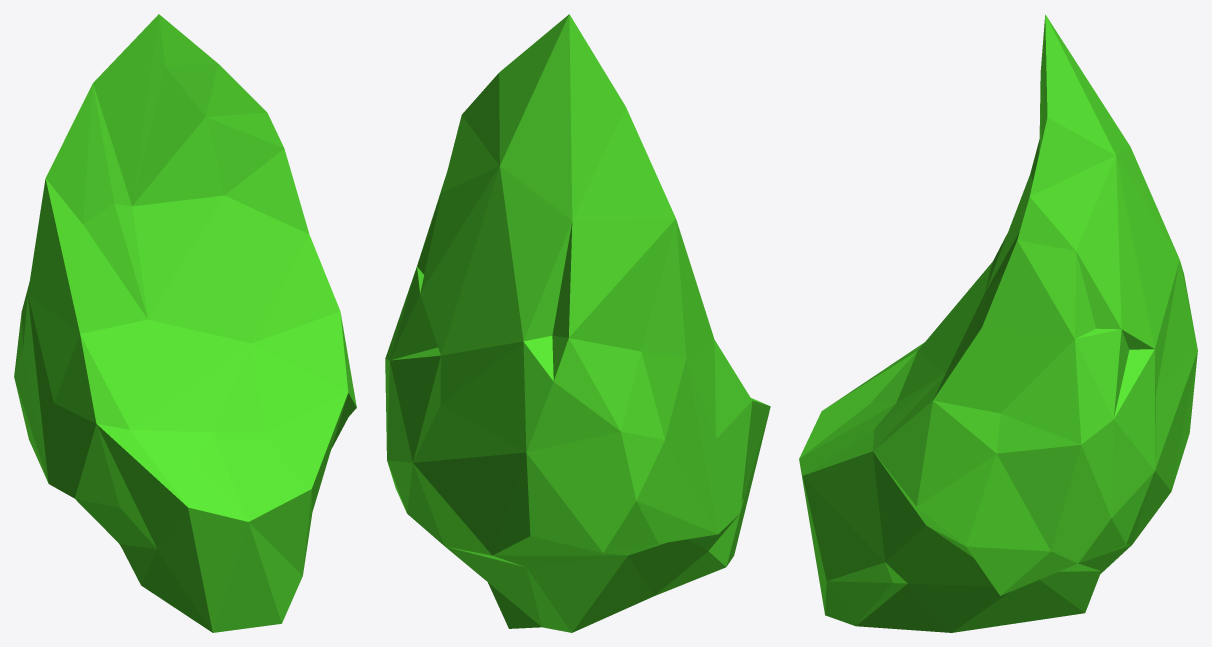
The model's file is meteor_green_flow_shard_02.glb.
3 renders of one model, left to right at view 1: azimuth 30°, elevation 25°; view 2: azimuth 150°, elevation 25°; view 3: azimuth 270°, elevation 25°, orthographic. The views are drawn at different scales.
Parts seen in each view (by area): view 1: Mesh1.001; view 2: Mesh1.001; view 3: Mesh1.001.
Boxes of the visible parts, x1,y1,x2,y2 form: Mesh1.001: [14, 14, 356, 632]; Mesh1.001: [385, 14, 770, 632]; Mesh1.001: [799, 14, 1197, 632].
Size of the model in its own units: 1.21 by 2.31 by 1.4.
